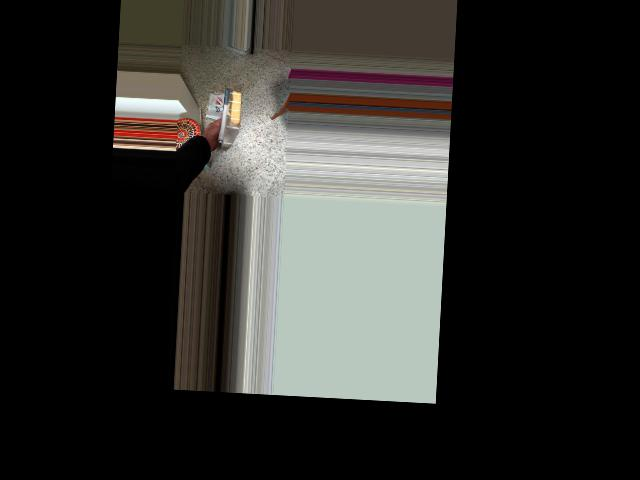cheese: (205, 86, 249, 148)
